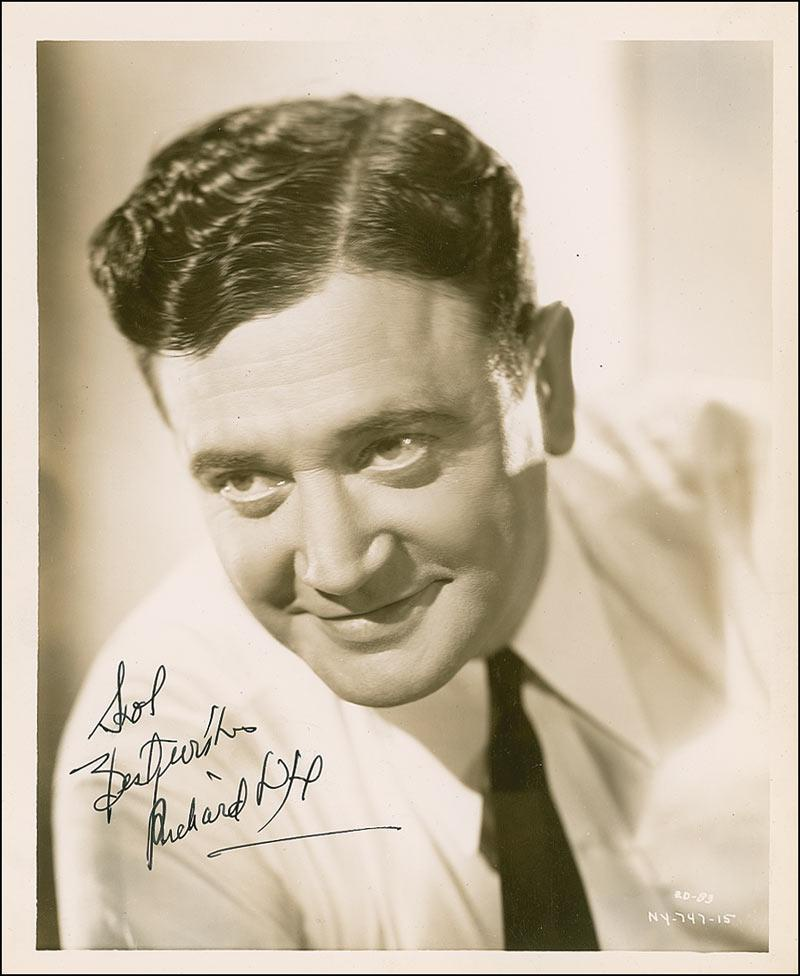bad: (170, 384, 491, 705)
